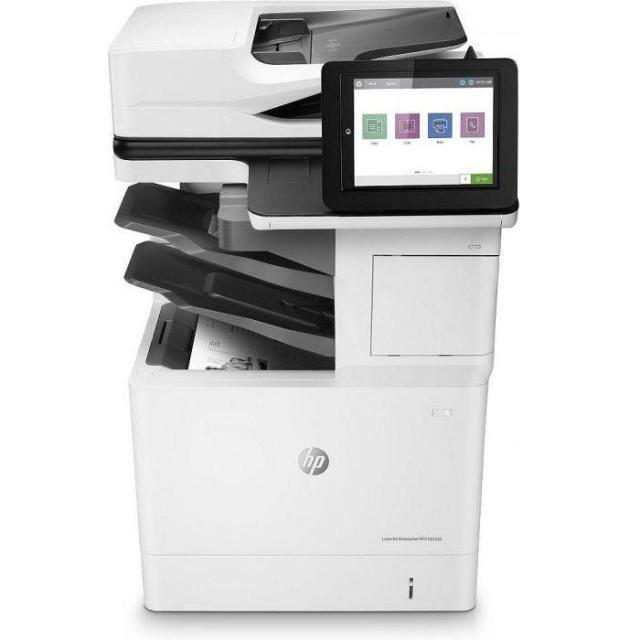printer: (107, 1, 519, 613)
